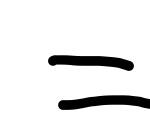eqv: (48, 55, 150, 110)
